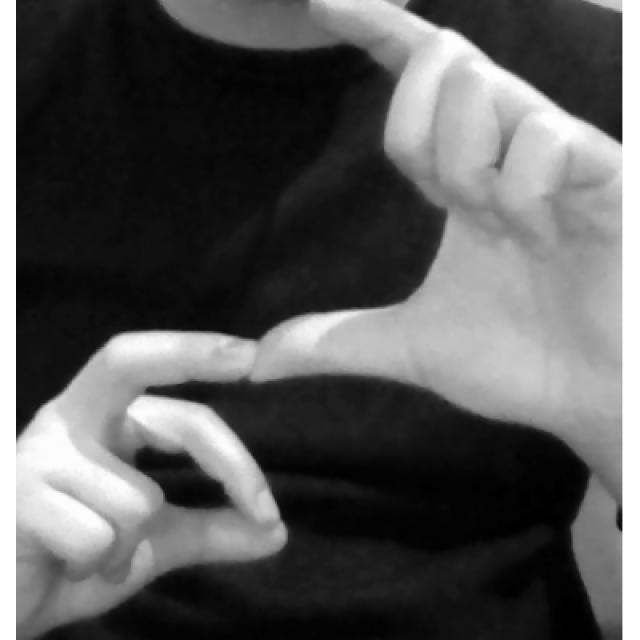S_: (19, 1, 622, 640)
